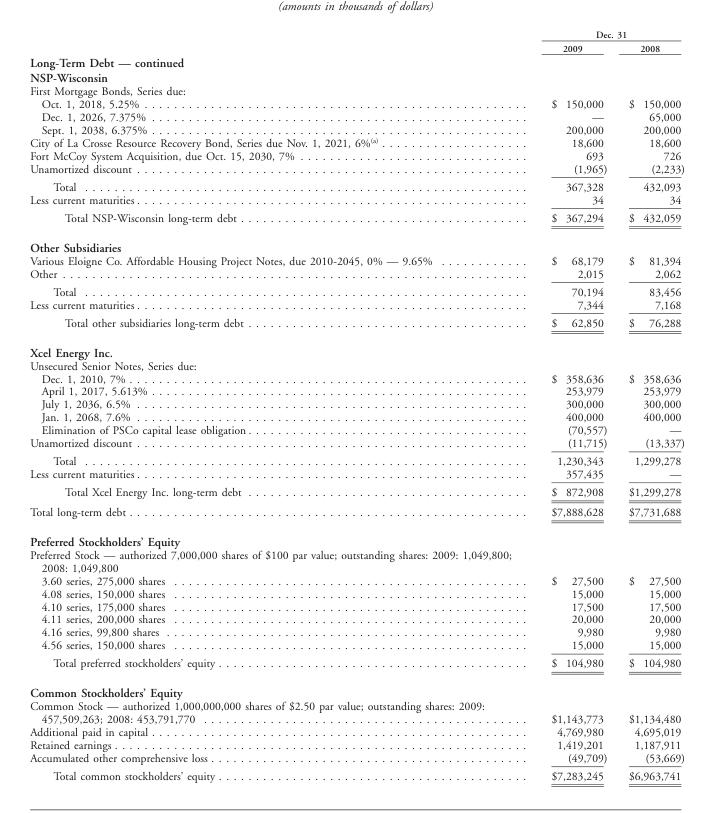table: (29, 28, 684, 781)
table column: (29, 28, 517, 781), (517, 28, 617, 781), (617, 28, 684, 781)
table column header: (29, 28, 684, 54)
table projected row header: (29, 548, 684, 573), (29, 231, 684, 253), (29, 336, 684, 358), (29, 526, 684, 548), (29, 677, 684, 699), (29, 54, 684, 70), (29, 70, 684, 84), (29, 84, 684, 97), (29, 358, 684, 371)
table row: (29, 699, 684, 725), (29, 501, 684, 526), (29, 548, 684, 573), (29, 653, 684, 677), (29, 208, 684, 231), (29, 313, 684, 336), (29, 231, 684, 253), (29, 336, 684, 358), (29, 526, 684, 548), (29, 677, 684, 699), (29, 482, 684, 501), (29, 54, 684, 70), (29, 161, 684, 177), (29, 192, 684, 208), (29, 266, 684, 282), (29, 297, 684, 313), (29, 451, 684, 467), (29, 177, 684, 192), (29, 282, 684, 297), (29, 436, 684, 451), (29, 467, 684, 482), (29, 638, 684, 653), (29, 751, 684, 766), (29, 766, 684, 781), (29, 40, 684, 54), (29, 70, 684, 84), (29, 84, 684, 97), (29, 97, 684, 110), (29, 110, 684, 123), (29, 135, 684, 148), (29, 148, 684, 161), (29, 253, 684, 266), (29, 358, 684, 371), (29, 371, 684, 384), (29, 384, 684, 397), (29, 397, 684, 410), (29, 410, 684, 423), (29, 423, 684, 436), (29, 573, 684, 586), (29, 586, 684, 599), (29, 599, 684, 612), (29, 612, 684, 625), (29, 625, 684, 638), (29, 725, 684, 738), (29, 738, 684, 751), (29, 28, 684, 40), (29, 123, 684, 135)
table spanning cell: (517, 28, 684, 40)
